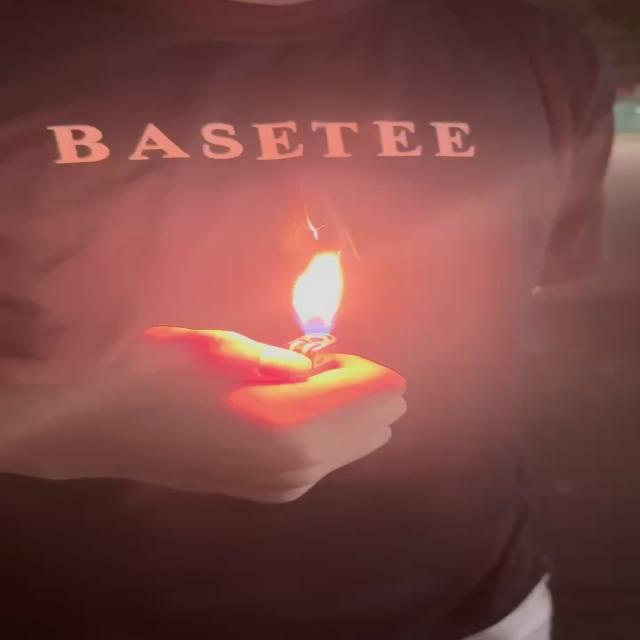Fire: (290, 248, 354, 343)
